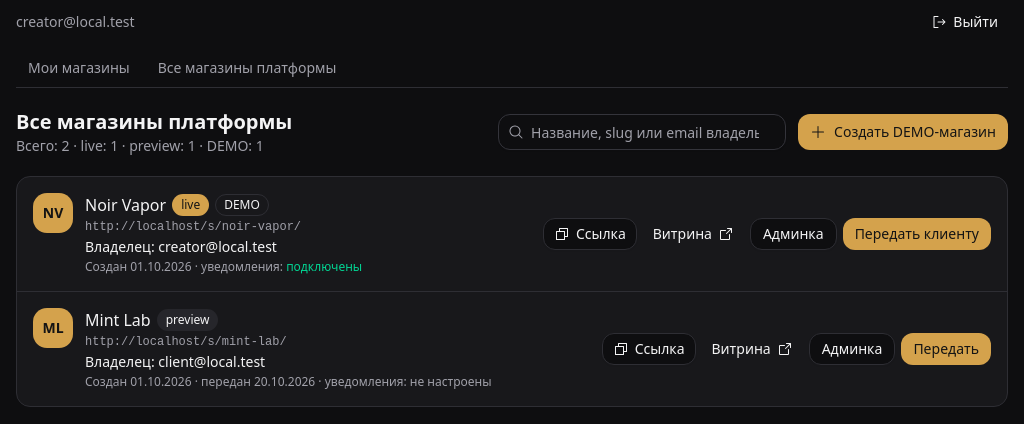
Test: Все магазины платформы › lists every shop with owner, status and dates, and searches by owner email
This screenshot has width=1024, height=424.
Expected: the number of list items with test id "platform-shop" is 2, [17,177,1007,292]; [17,292,1007,406]
Expected: the text with test id "platform-summary" shows "Всего: 2 · live: 1 · preview: 1", [16,136,292,156]
Type "client@" into the search field named "Поиск магазинов" at [642, 132], box [498,114,786,150]
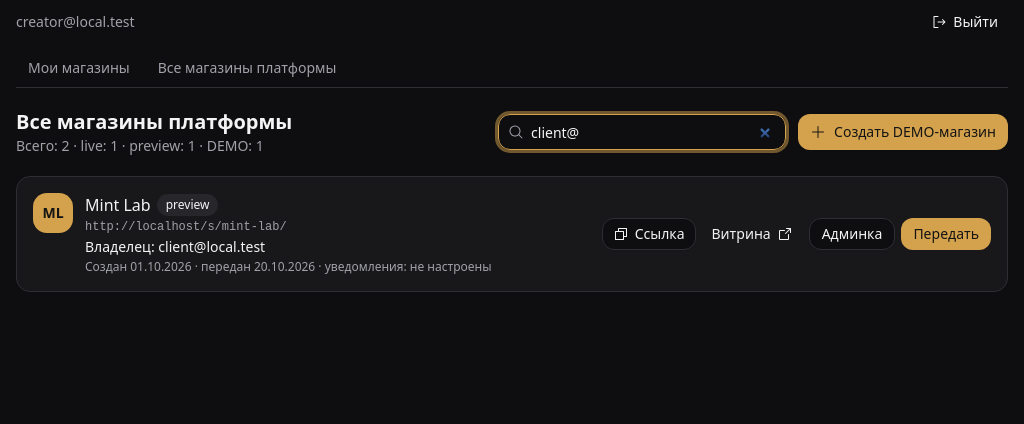
Expected: the list item with test id "platform-shop" shows "Mint Lab", [85,194,151,216]
Result: the number of list items with test id "platform-shop" is 1 at [17,177,1007,291]
